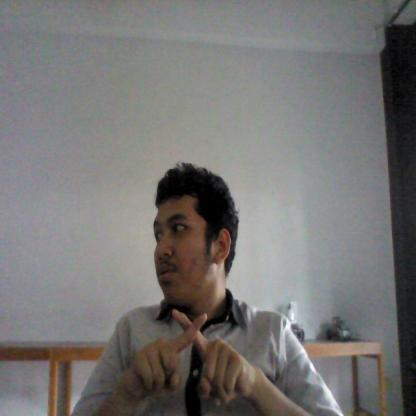X: (128, 308, 257, 404)
